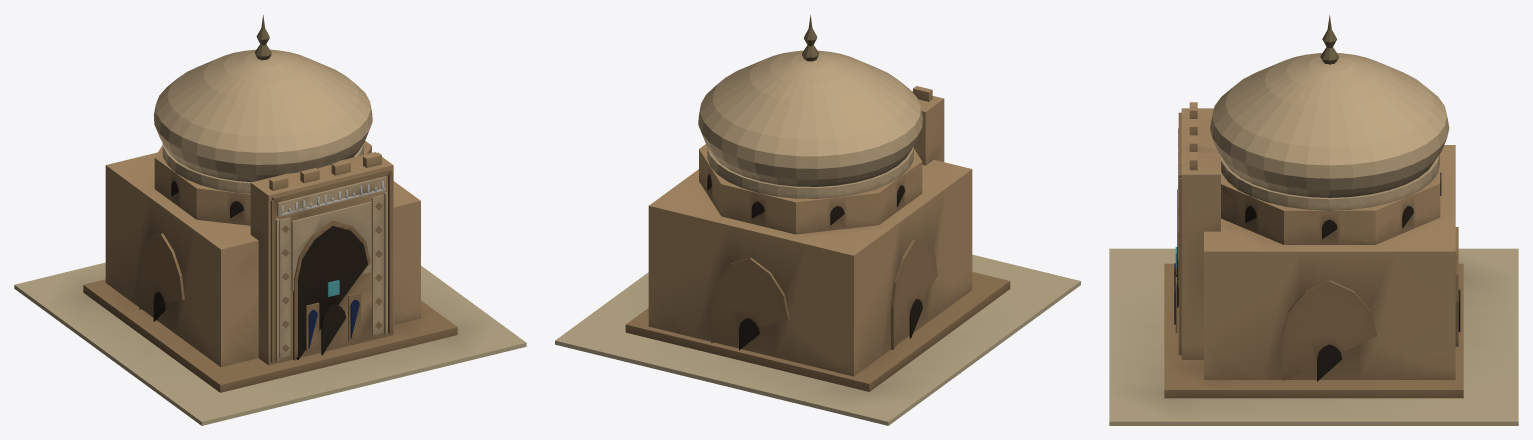
The model's file is rukhabad.glb.
3 renders of one model, left to right at view 1: azimuth 30°, elevation 25°; view 2: azimuth 150°, elevation 25°; view 3: azimuth 270°, elevation 25°, orthographic. The views are drawn at different scales.
Visible parts, largest first — view 1: p0_body, p1_portal; view 2: p0_body, p1_portal; view 3: p0_body, p1_portal.
Part boxes in pixels (x1=…): p0_body: x1=14, y1=15, x2=526, y2=425; p1_portal: x1=250, y1=152, x2=393, y2=365; p0_body: x1=555, y1=15, x2=1080, y2=425; p1_portal: x1=911, y1=86, x2=944, y2=165; p0_body: x1=1109, y1=15, x2=1518, y2=425; p1_portal: x1=1174, y1=102, x2=1220, y2=359.
Size of the model in its own units: 26 by 22.82 by 26.
